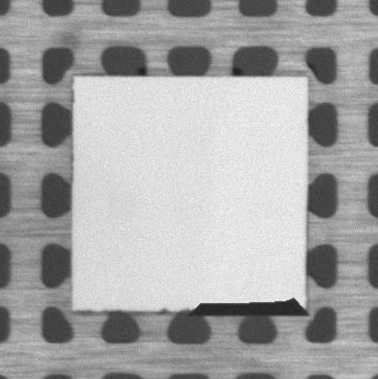DIE_BROKEN: (188, 296, 309, 317)
